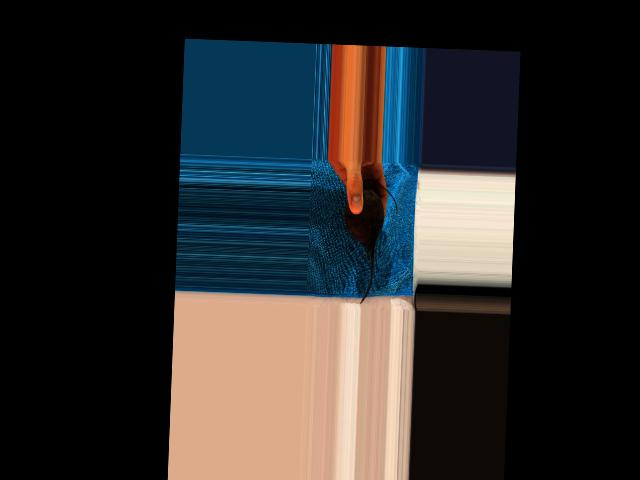beet: (340, 178, 397, 305)
